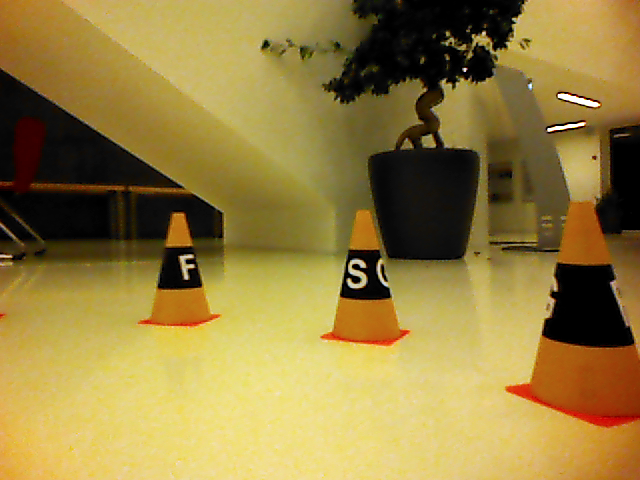yellowcone: (532, 199, 640, 417), (332, 210, 401, 343), (151, 209, 211, 324)
